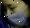with_mask: (1, 2, 30, 28)
